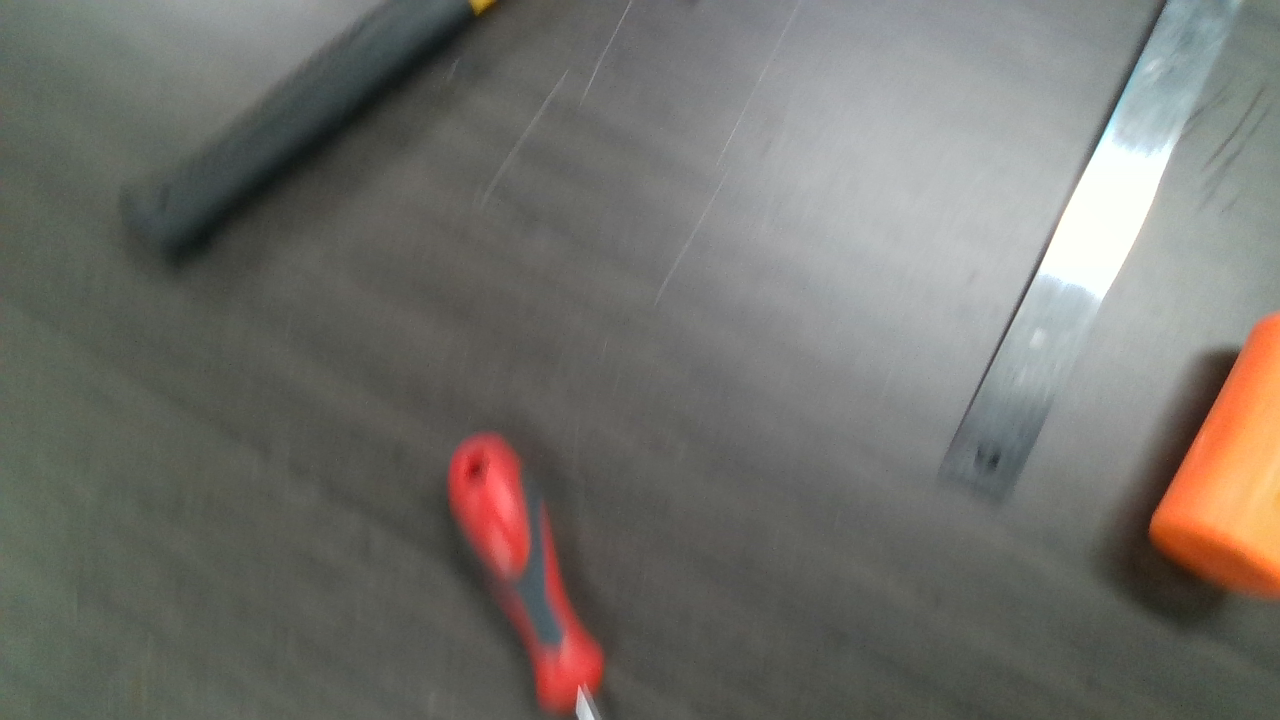Orange Hammer: (1150, 306, 1280, 600)
